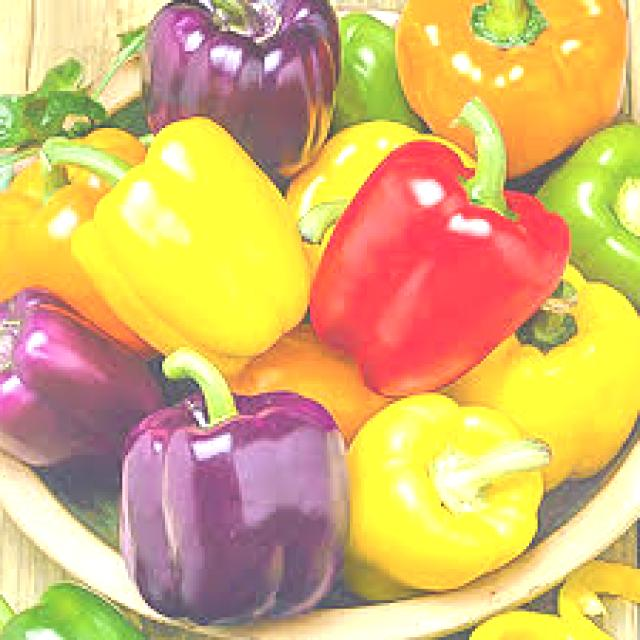carrot: (296, 106, 576, 404), (59, 126, 323, 389), (110, 364, 349, 622), (320, 388, 558, 598), (441, 265, 640, 486), (131, 0, 344, 174), (388, 0, 630, 146), (0, 111, 148, 333), (0, 303, 162, 462), (528, 118, 640, 310), (311, 3, 432, 139), (477, 559, 640, 640), (0, 589, 154, 640)
